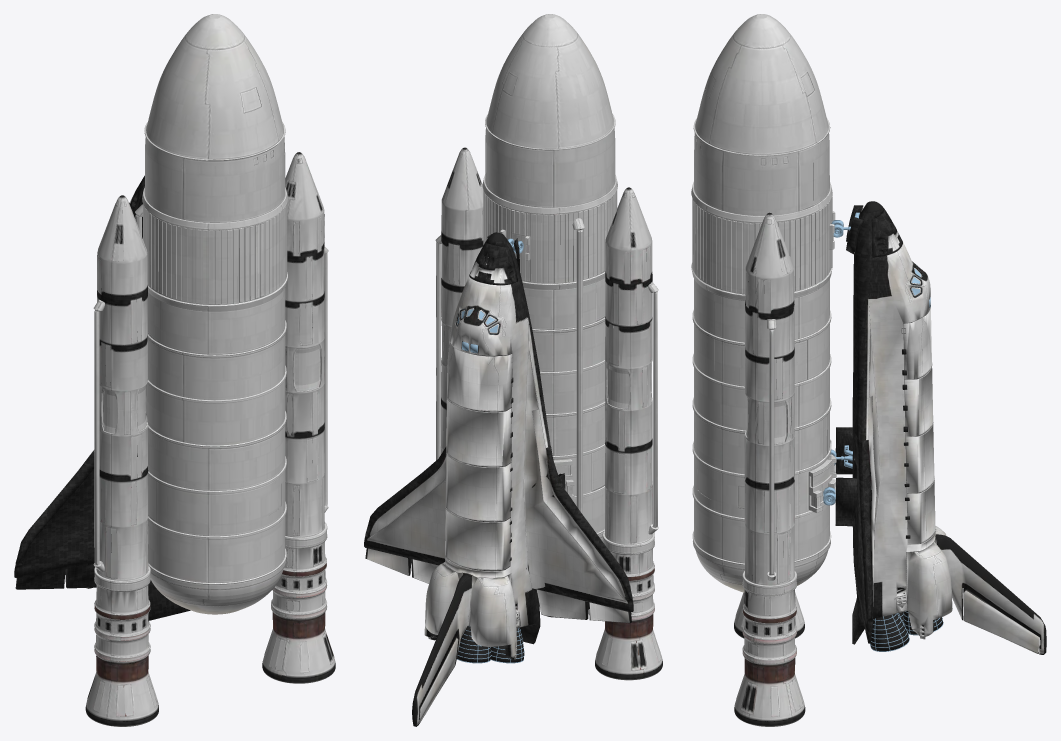
3 views of the same model, side by side, from view 1: azimuth 30°, elevation 25°; view 2: azimuth 150°, elevation 25°; view 3: azimuth 270°, elevation 25° (orthographic). The views are drawn at different scales.
Visible parts, largest first — view 1: SM_Shuttle_Tank_M_Orig_Shuttle_Tank_0, SM_Shuttle_M_Orig_Shuttle_0; view 2: SM_Shuttle_Tank_M_Orig_Shuttle_Tank_0, SM_Shuttle_M_Orig_Shuttle_0, SM_Shuttle_M_Dummy_Metall_Shuttle_0; view 3: SM_Shuttle_Tank_M_Orig_Shuttle_Tank_0, SM_Shuttle_M_Orig_Shuttle_0, SM_Shuttle_M_Dummy_Metall_Shuttle_0.
Part boxes in pixels (x1,y1,x2,y2): SM_Shuttle_Tank_M_Orig_Shuttle_Tank_0: [85, 14, 335, 726]; SM_Shuttle_M_Orig_Shuttle_0: [14, 175, 190, 620]; SM_Shuttle_Tank_M_Orig_Shuttle_Tank_0: [435, 14, 662, 680]; SM_Shuttle_M_Orig_Shuttle_0: [364, 232, 633, 726]; SM_Shuttle_M_Dummy_Metall_Shuttle_0: [456, 240, 524, 663]; SM_Shuttle_Tank_M_Orig_Shuttle_Tank_0: [691, 14, 836, 726]; SM_Shuttle_M_Orig_Shuttle_0: [835, 201, 1046, 654]; SM_Shuttle_M_Dummy_Metall_Shuttle_0: [824, 212, 943, 651].
Bounding box in the file's own units: 24.63 × 54.99 × 27.04.
3 materials, 2 textured.
